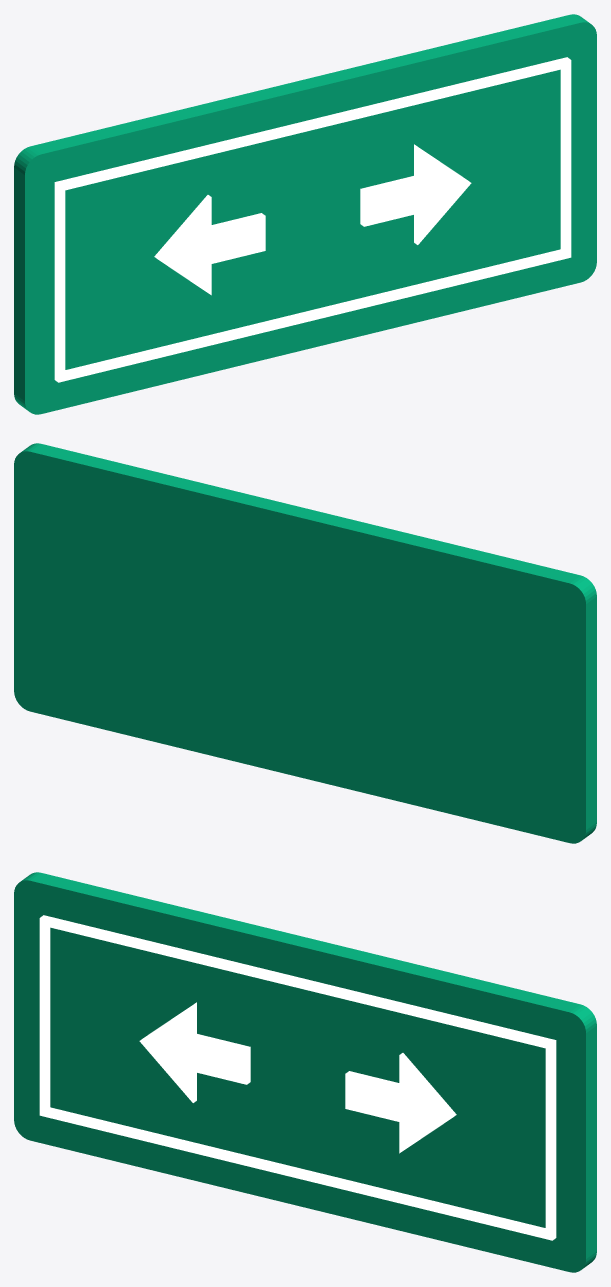
3 views of the same model, one above another, from view 1: azimuth 30°, elevation 25°; view 2: azimuth 150°, elevation 25°; view 3: azimuth 330°, elevation 25° (orthographic).
Parts seen in each view (by area): view 1: plate, bd0, bd1, g0, g1, bd2, bd3; view 2: plate; view 3: plate, bd0, bd1, g1, g0, bd3, bd2.
Boxes of the visible parts, x1,y1,x2,y2 form: plate: (14, 14, 596, 414); bd0: (54, 57, 571, 191); bd1: (54, 249, 571, 382); g0: (154, 195, 265, 295); g1: (360, 144, 471, 244); bd2: (54, 183, 65, 375); bd3: (560, 67, 571, 251); plate: (14, 443, 596, 843); plate: (14, 872, 596, 1272); bd0: (39, 915, 556, 1049); bd1: (39, 1107, 556, 1240); g1: (345, 1053, 456, 1153); g0: (139, 1002, 250, 1102); bd3: (545, 1047, 556, 1233); bd2: (39, 925, 50, 1109).
Bounding box in the file's own units: 0.424 × 0.184 × 0.019.
